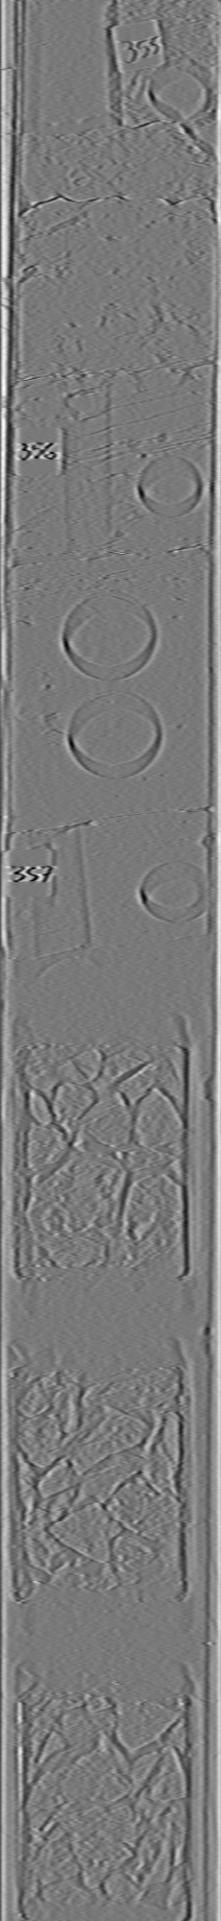hplug: (138, 855, 207, 929), (144, 55, 217, 123), (131, 455, 203, 523)
scal: (58, 588, 158, 682), (64, 690, 166, 782)
vplug: (52, 379, 117, 555), (27, 827, 95, 959)
